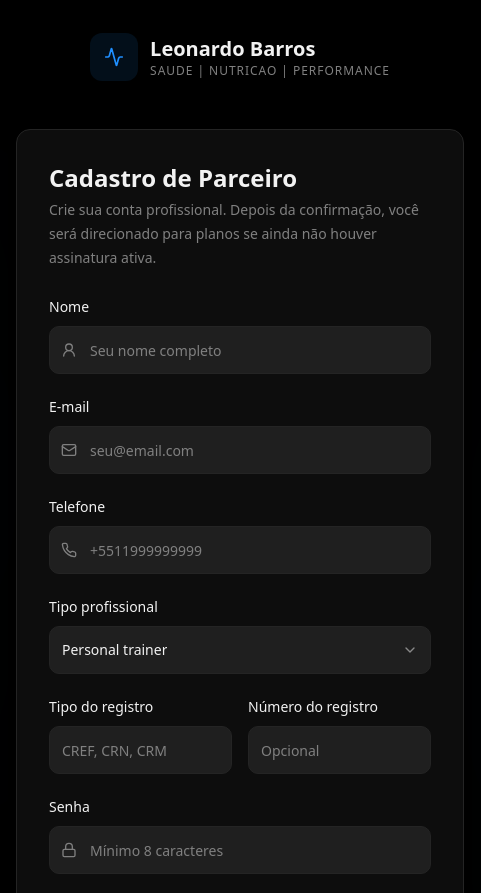
Test: PartnerSignupView › exibe confirmacao pendente com login segmentado de parceiro
The width and height of the screenshot is (481, 893).
Type "Vinicius Ferrari" into the field labelled "Nome". click: (240, 350)
box: [49,326,431,374]
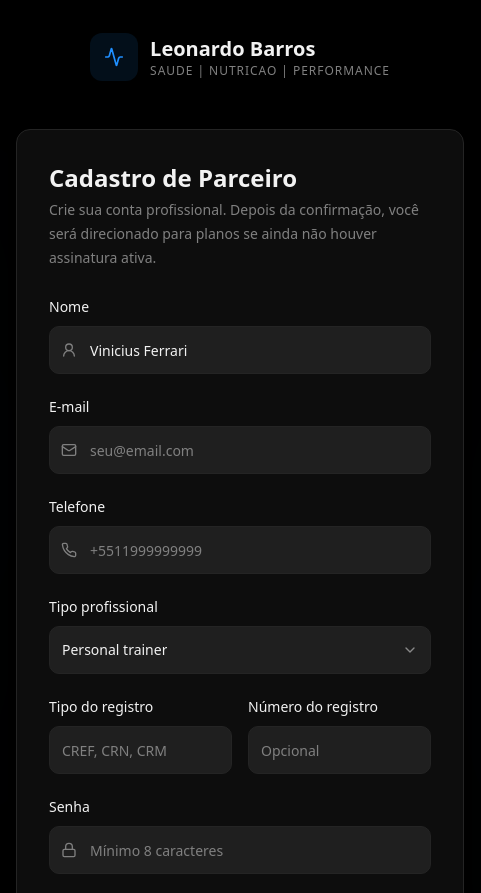
Type "parceiro@example.com" into the field labelled "E-mail". click: (240, 450)
box: [49,426,431,474]
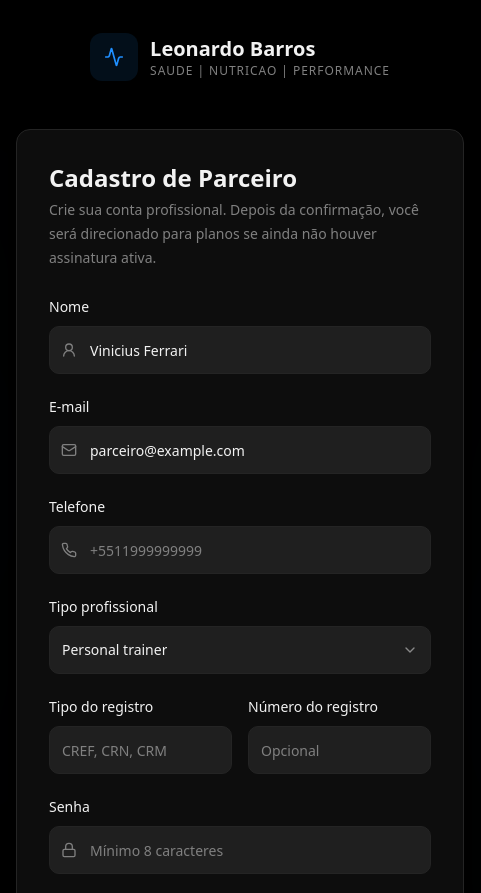
Type "+55119984222461" into the field labelled "Telefone". click: (240, 550)
box: [49,526,431,574]
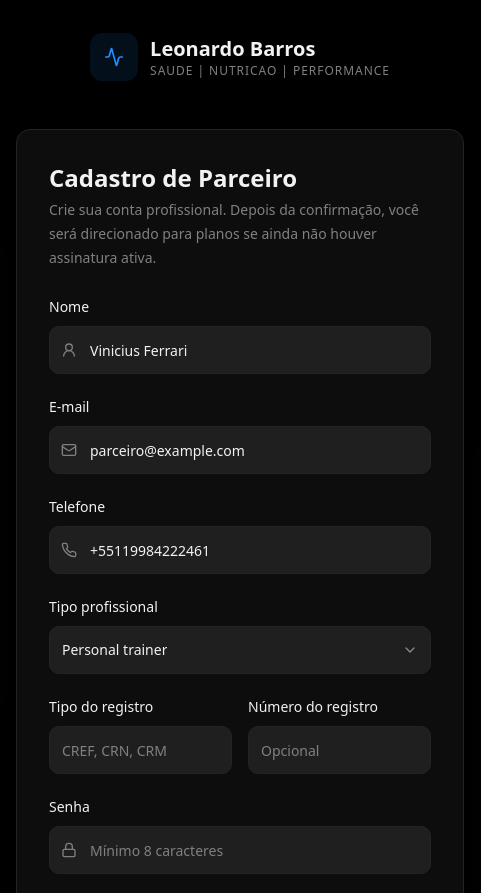
Type "senha-segura" into the password field labelled "Senha". click: (240, 850)
box: [49,826,431,874]
(page scrolled)
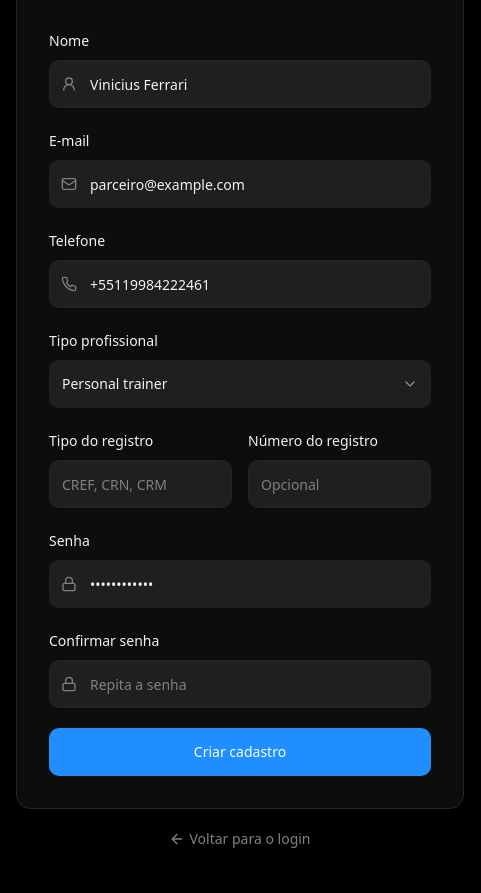
Type "senha-segura" into the password field labelled "Confirmar senha". click: (240, 684)
box: [49,660,431,708]
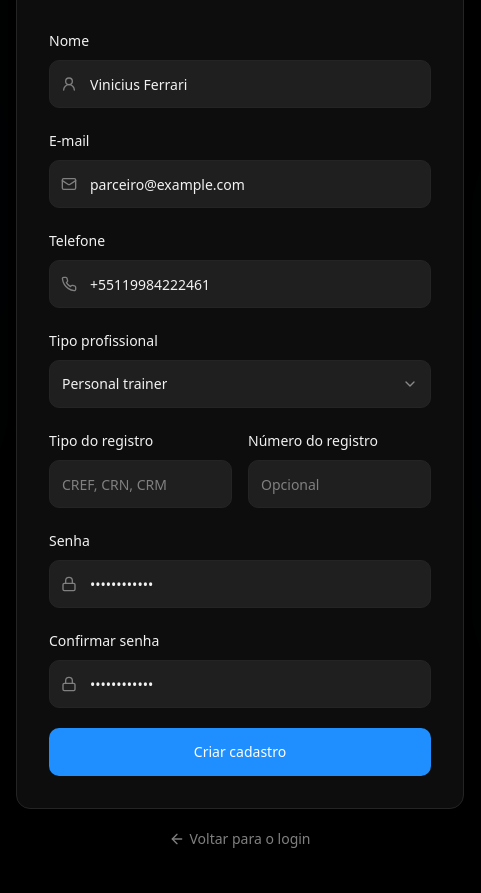
Submit the form
(page scrolled)
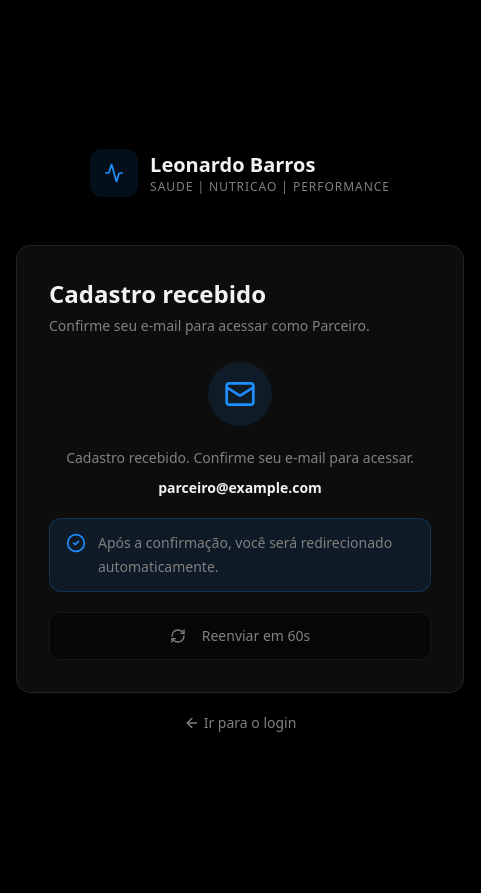
Check: the text "parceiro@example.com" is shown, box [158,478,322,497]
